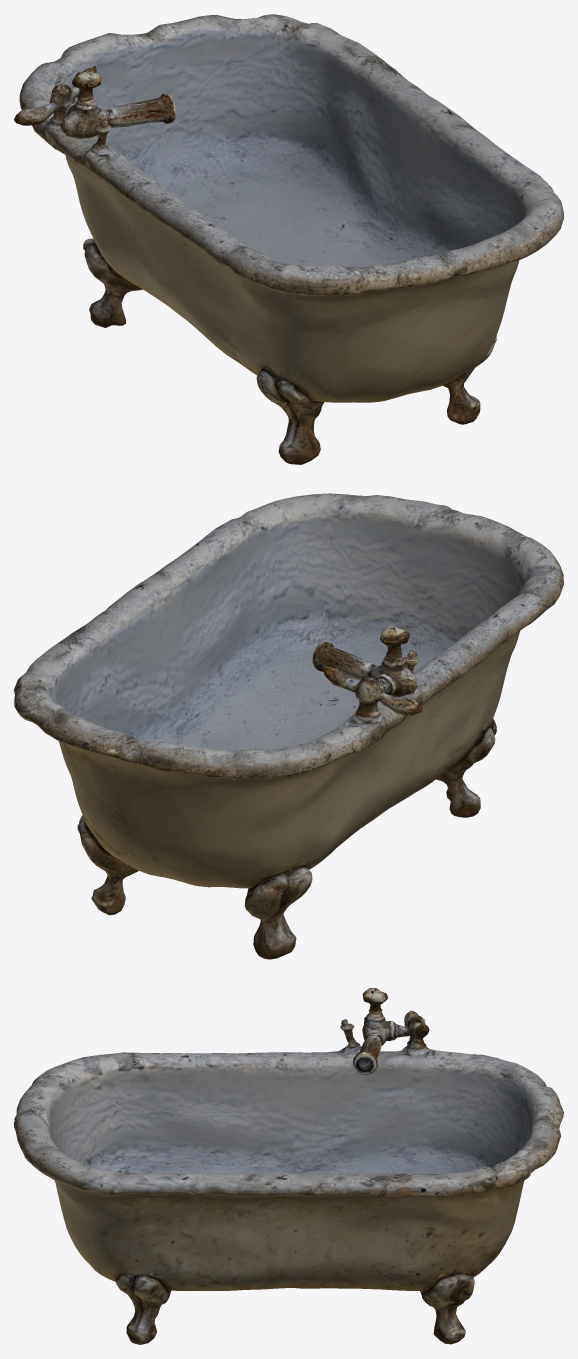
Rendered from scene-bathtub-v03.glb.
The picture shows the model from 3 angles, top to bottom: view 1: azimuth 30°, elevation 25°; view 2: azimuth 150°, elevation 25°; view 3: azimuth 270°, elevation 25°; orthographic projection. The views are drawn at different scales.
Visible parts, largest first — view 1: tripo_node_079b2b72-a174-485c-9b4c-66660f044b61; view 2: tripo_node_079b2b72-a174-485c-9b4c-66660f044b61; view 3: tripo_node_079b2b72-a174-485c-9b4c-66660f044b61.
Part boxes in pixels (x1=…): tripo_node_079b2b72-a174-485c-9b4c-66660f044b61: x1=14, y1=14, x2=563, y2=464; tripo_node_079b2b72-a174-485c-9b4c-66660f044b61: x1=14, y1=493, x2=563, y2=959; tripo_node_079b2b72-a174-485c-9b4c-66660f044b61: x1=14, y1=988, x2=563, y2=1344.
Bounding box in the file's own units: 0.8224 × 0.65 × 1.26.
1 material, 1 textured.
